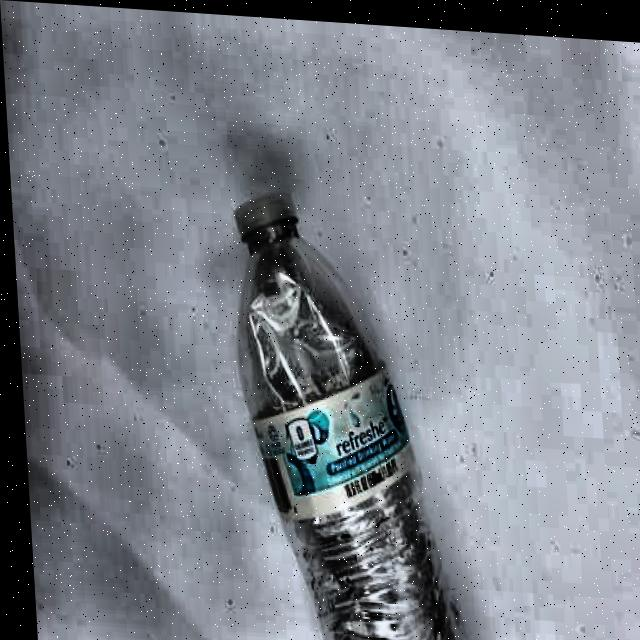plastic: (225, 186, 493, 640)
